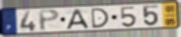4: (19, 10, 39, 33)
5: (141, 5, 160, 27), (120, 6, 138, 28)
A: (65, 8, 91, 30)
D: (90, 7, 111, 30)
P: (37, 8, 61, 32)
